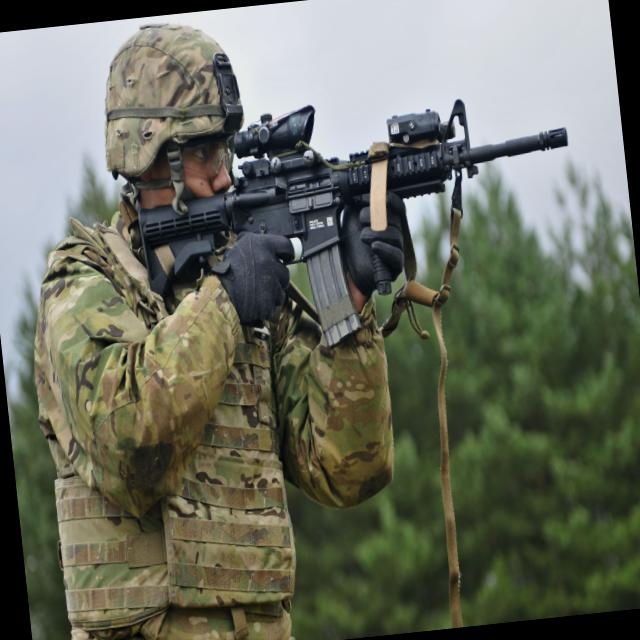long weapon: (216, 70, 590, 378)
